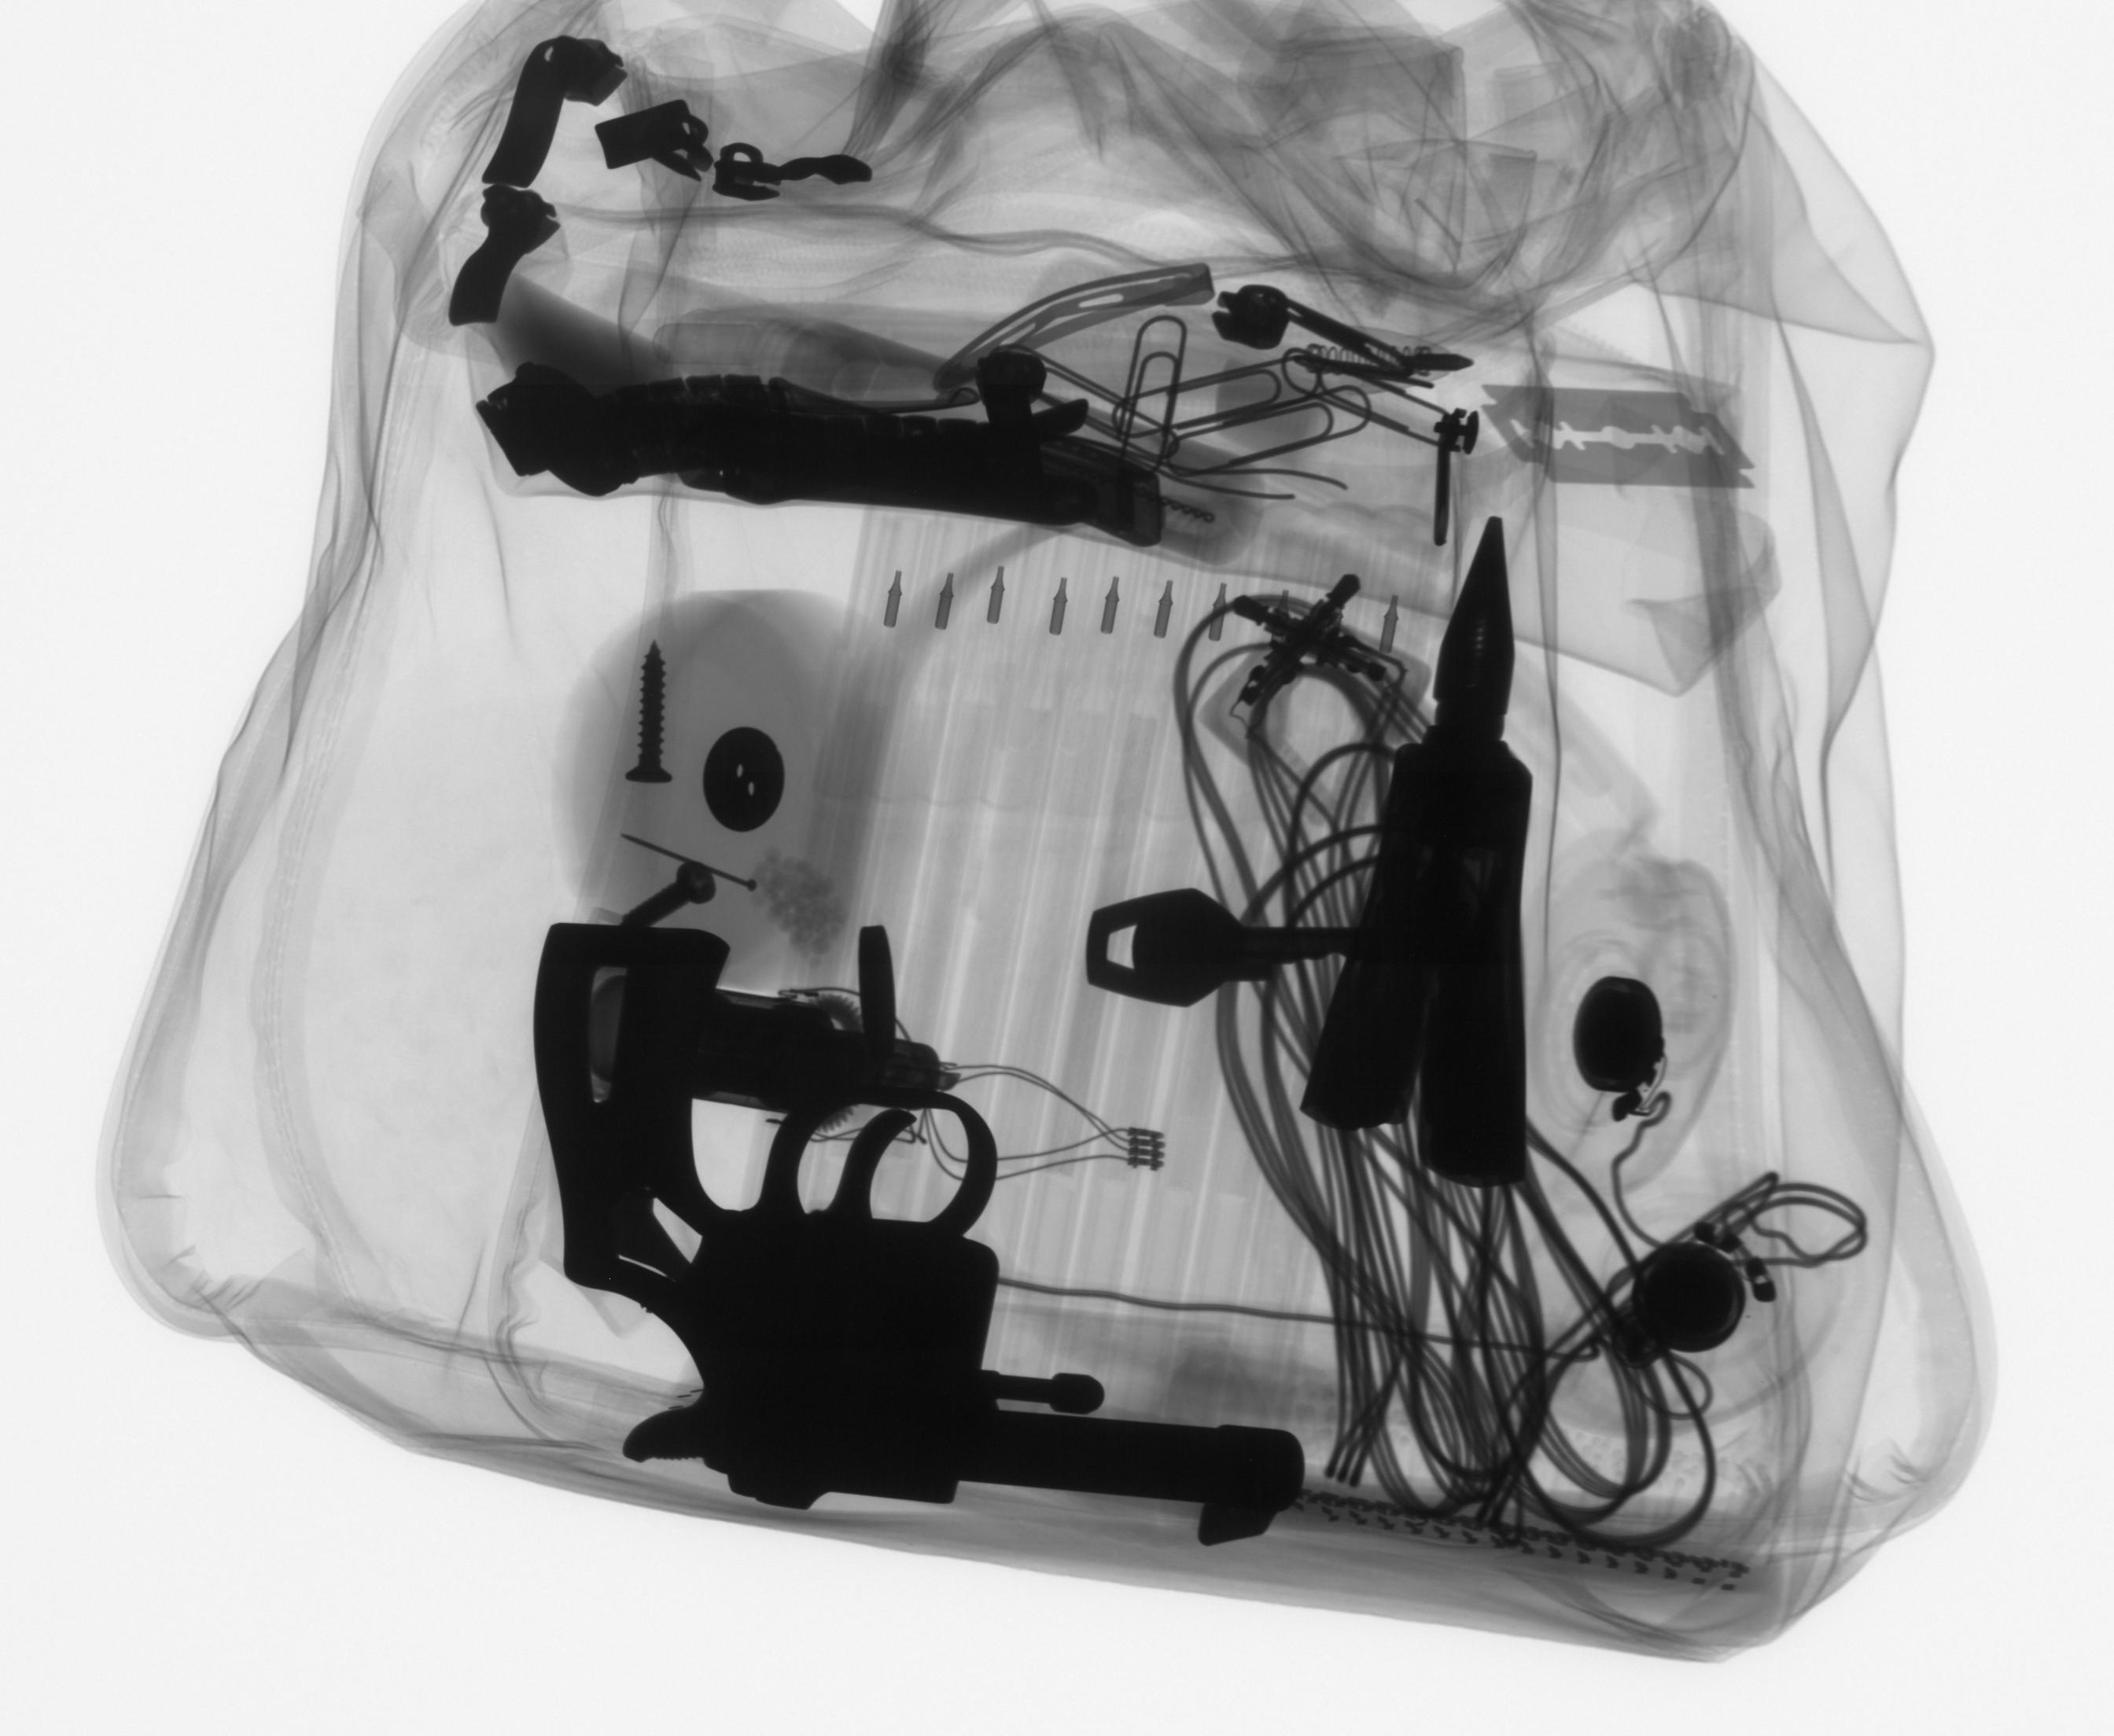Handgun: (527, 913, 1313, 1560)
RazorBlade: (1473, 374, 1766, 493)
